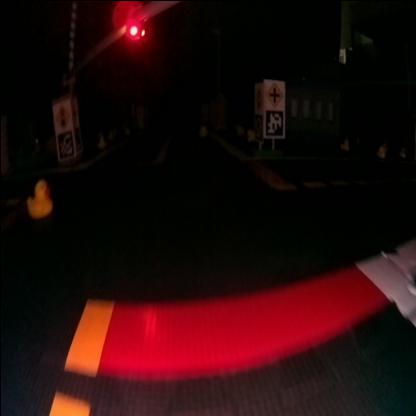Duckie: (26, 183, 50, 213)
Intersection sign: (264, 80, 281, 104)
QR code: (263, 110, 282, 134), (57, 131, 72, 155)
Signal sign: (53, 103, 69, 127)
Traffic light: (122, 3, 145, 41)
